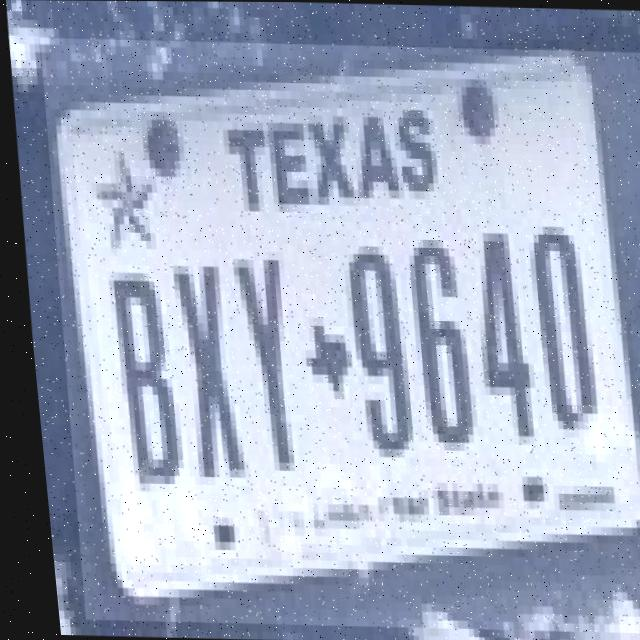LicensePlate: (29, 37, 640, 633)
